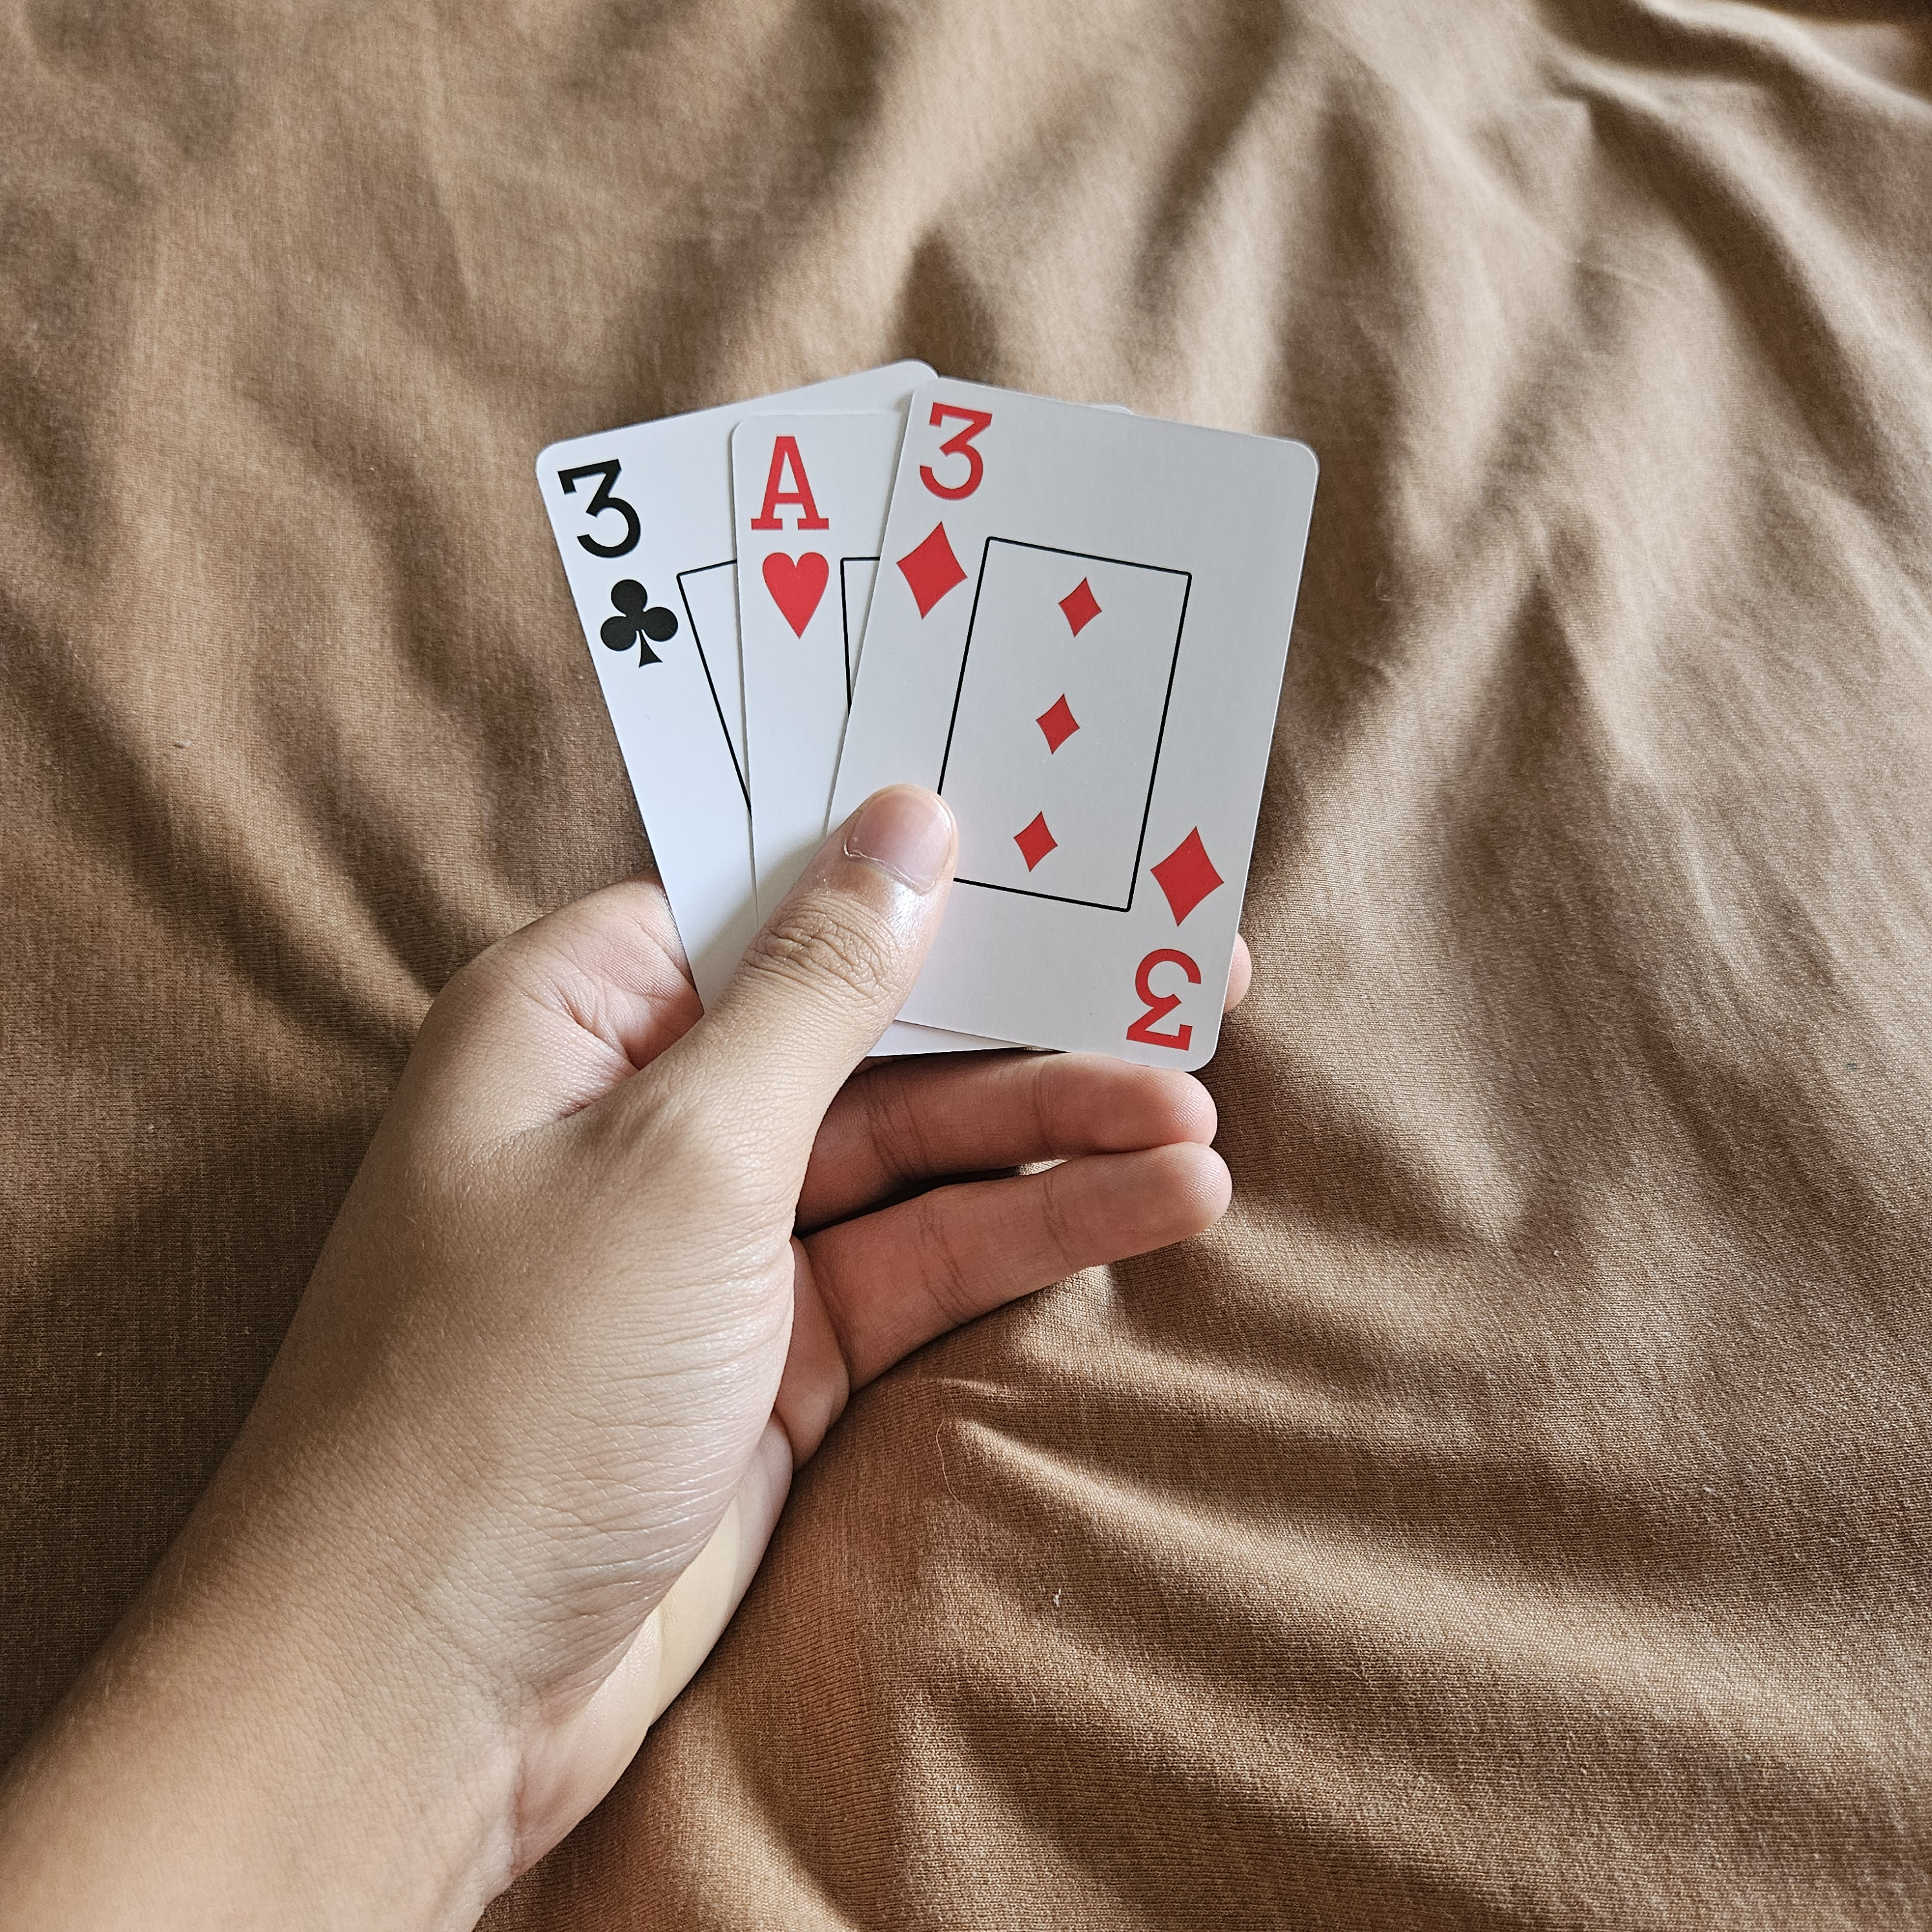3O: (1113, 814, 1235, 1065), (886, 389, 1007, 642)
3P: (545, 446, 695, 672)
AC: (729, 423, 853, 646)
